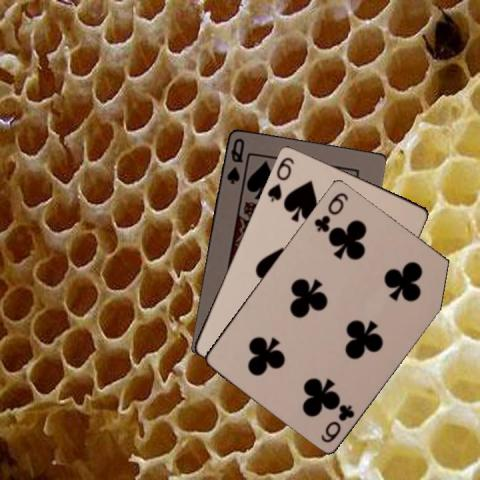6c: (311, 189, 350, 233), (317, 401, 356, 444)
6s: (264, 153, 296, 203)
Qs: (223, 135, 246, 185)
